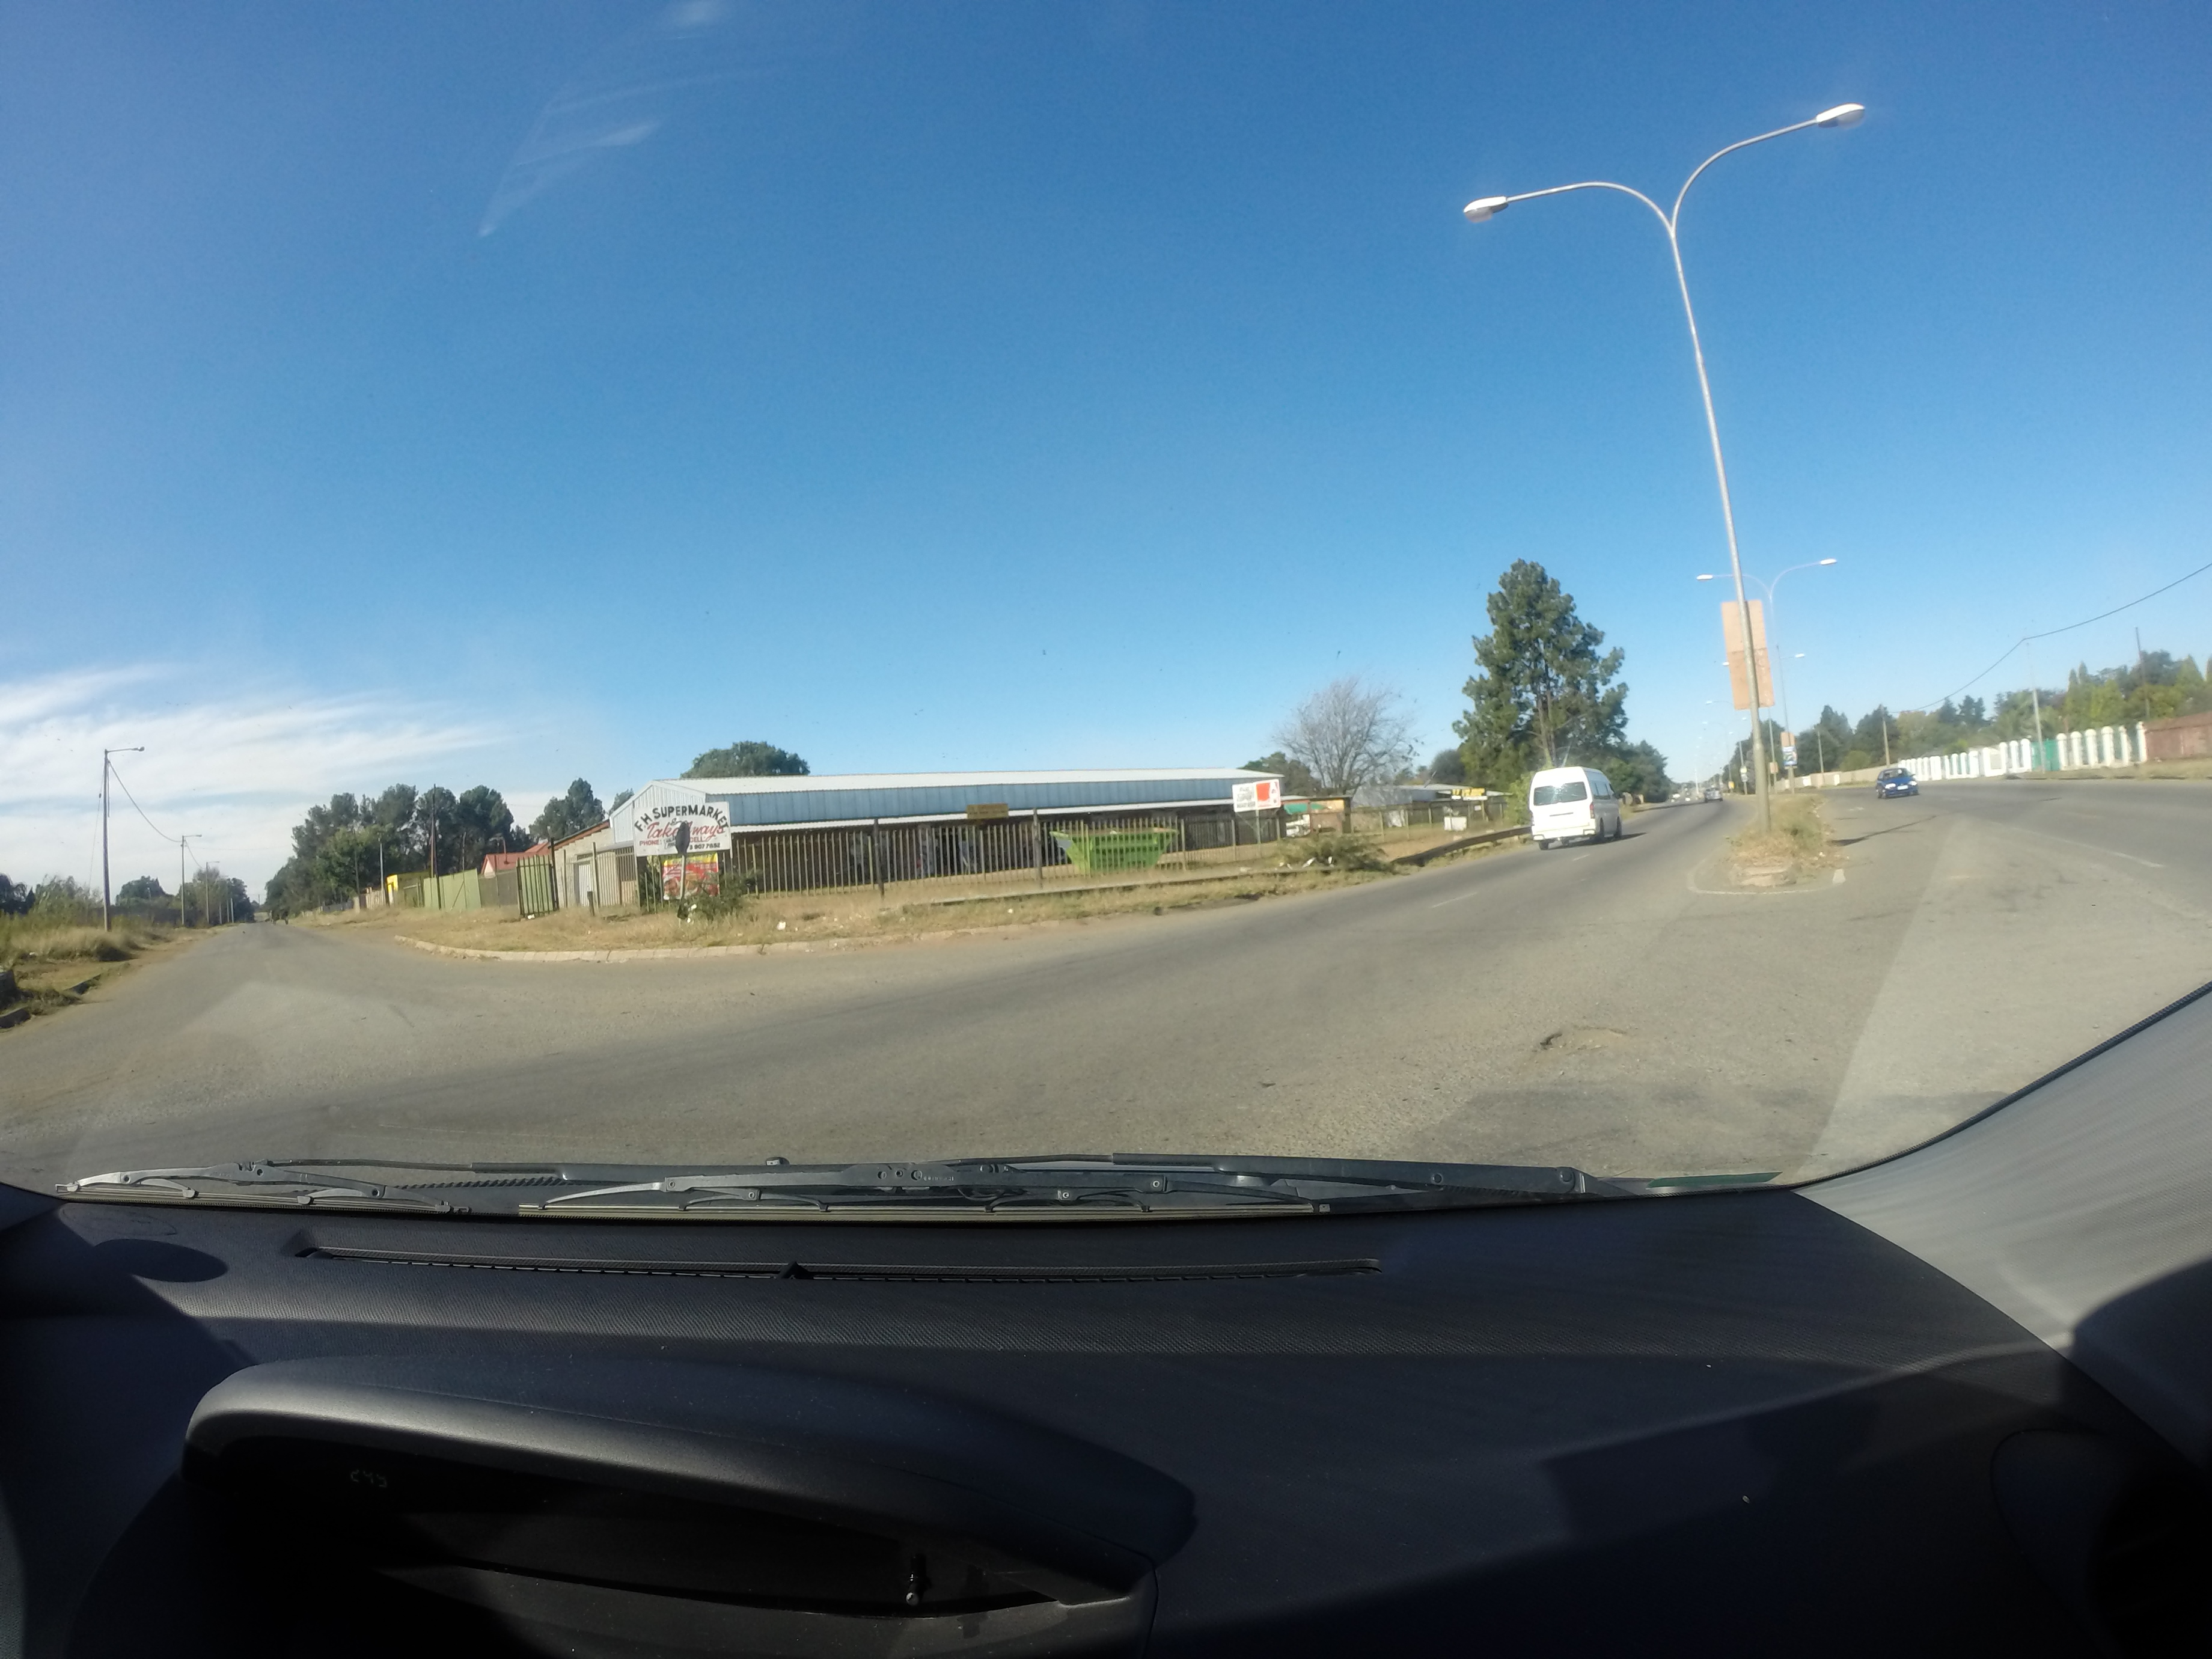pothole: (1505, 1004, 1648, 1077)
